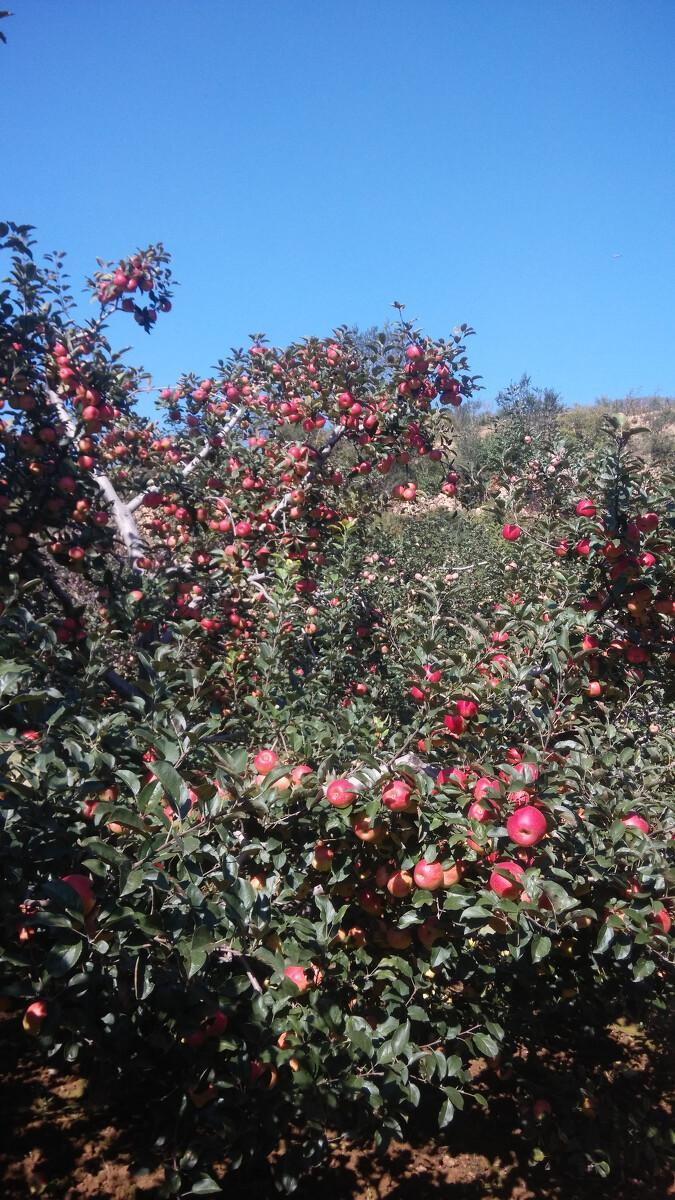apple: (507, 807, 547, 846), (414, 861, 445, 892)
